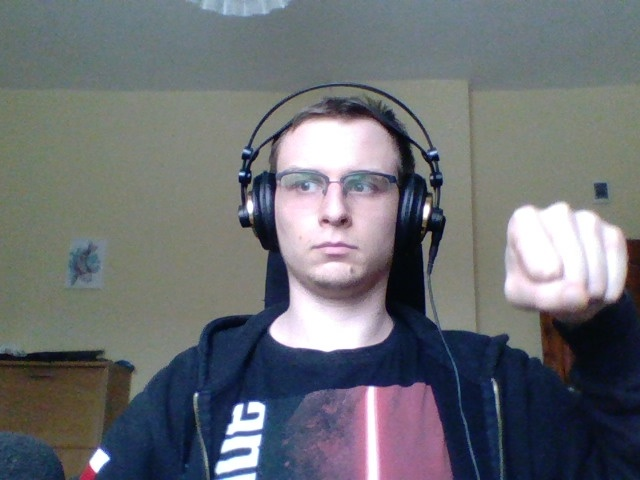yes: (499, 197, 633, 314)
